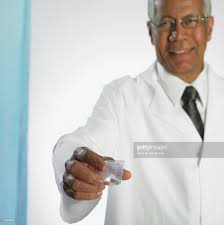Indian_Male: (151, 1, 209, 72)
